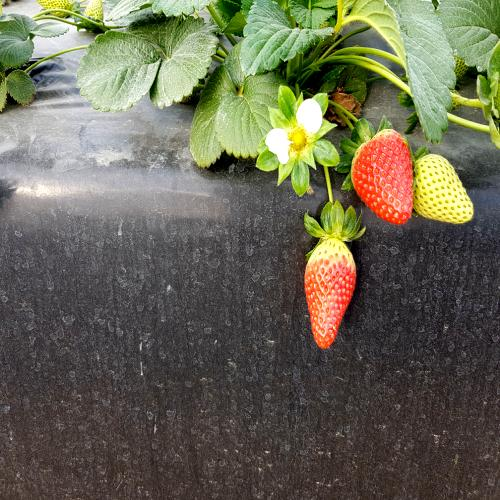ripe: (352, 125, 412, 231), (309, 233, 356, 335)
unripe: (411, 135, 480, 236)
